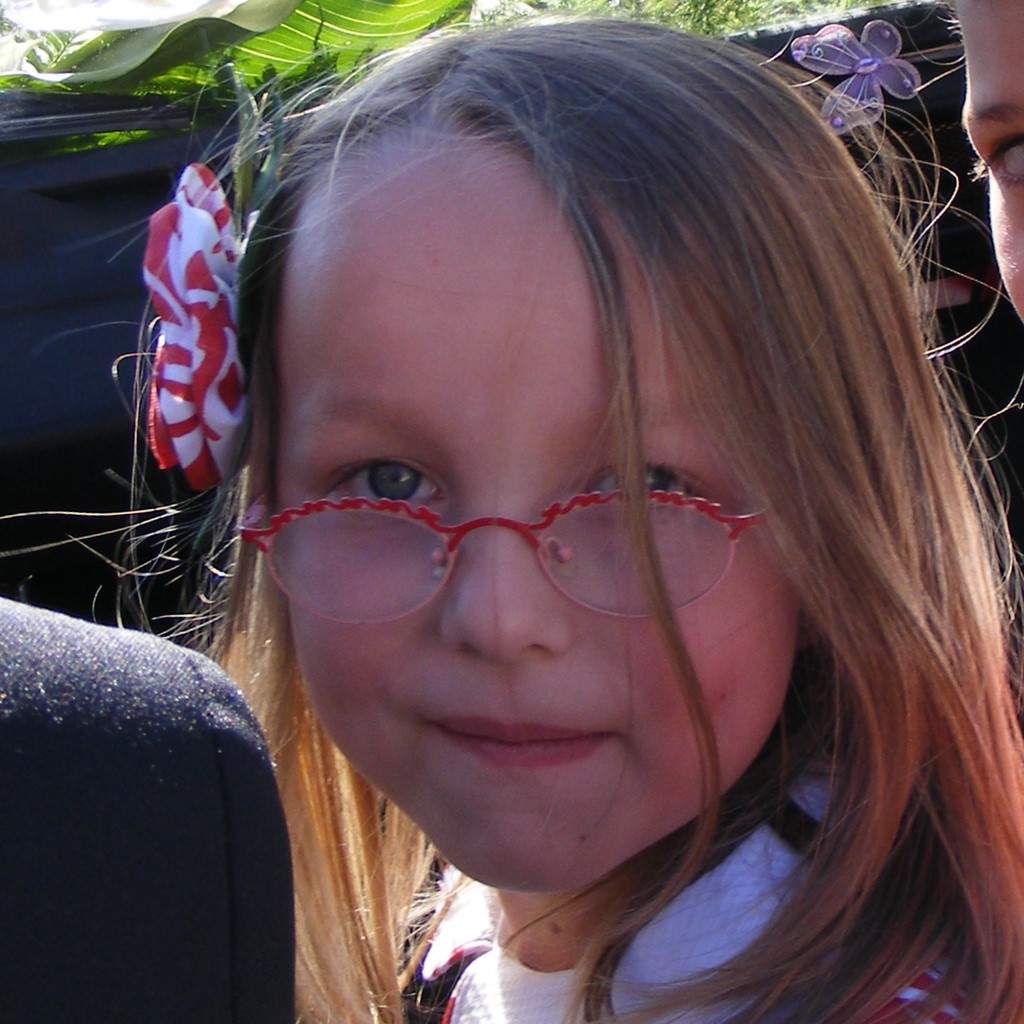sin_mascara: (259, 131, 840, 888)
